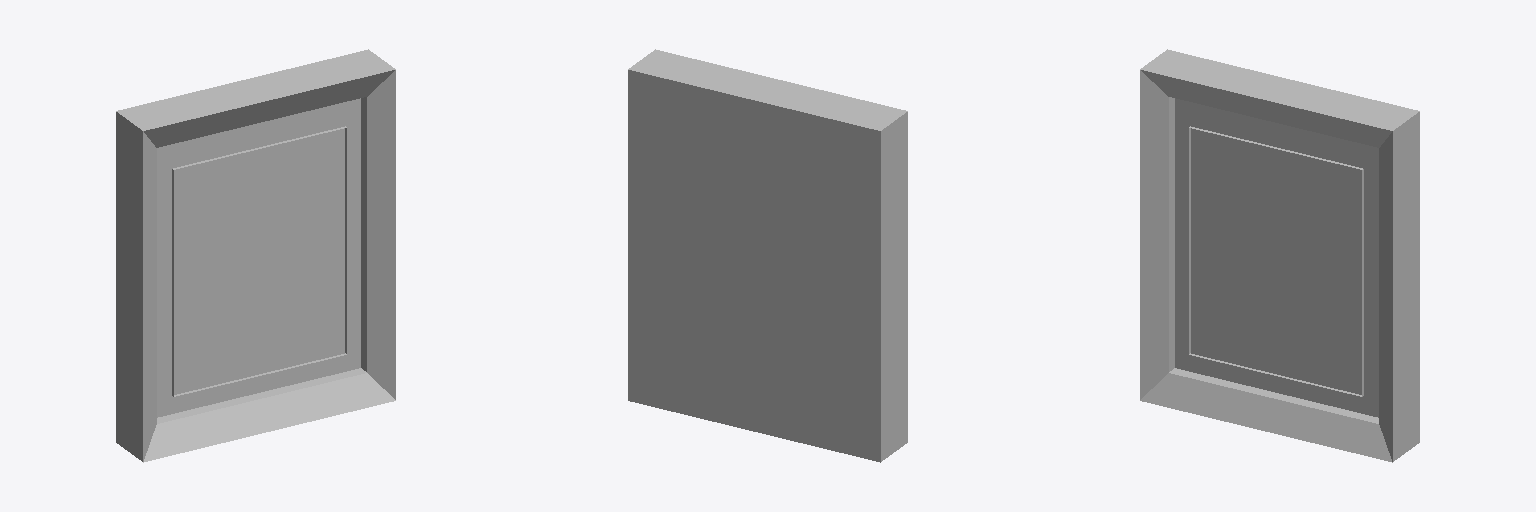
File: Frame.obj
3 renders of one model, left to right at view 1: azimuth 30°, elevation 25°; view 2: azimuth 150°, elevation 25°; view 3: azimuth 330°, elevation 25°, orthographic.
Visible parts, largest first — view 1: Cube.028_Cube.031; view 2: Cube.028_Cube.031; view 3: Cube.028_Cube.031.
Part boxes in pixels (bbox=[...]): Cube.028_Cube.031: bbox=[116, 49, 395, 462]; Cube.028_Cube.031: bbox=[628, 49, 907, 462]; Cube.028_Cube.031: bbox=[1140, 49, 1419, 462].
Bounding box in the file's own units: 4.66 × 5.84 × 0.8779.